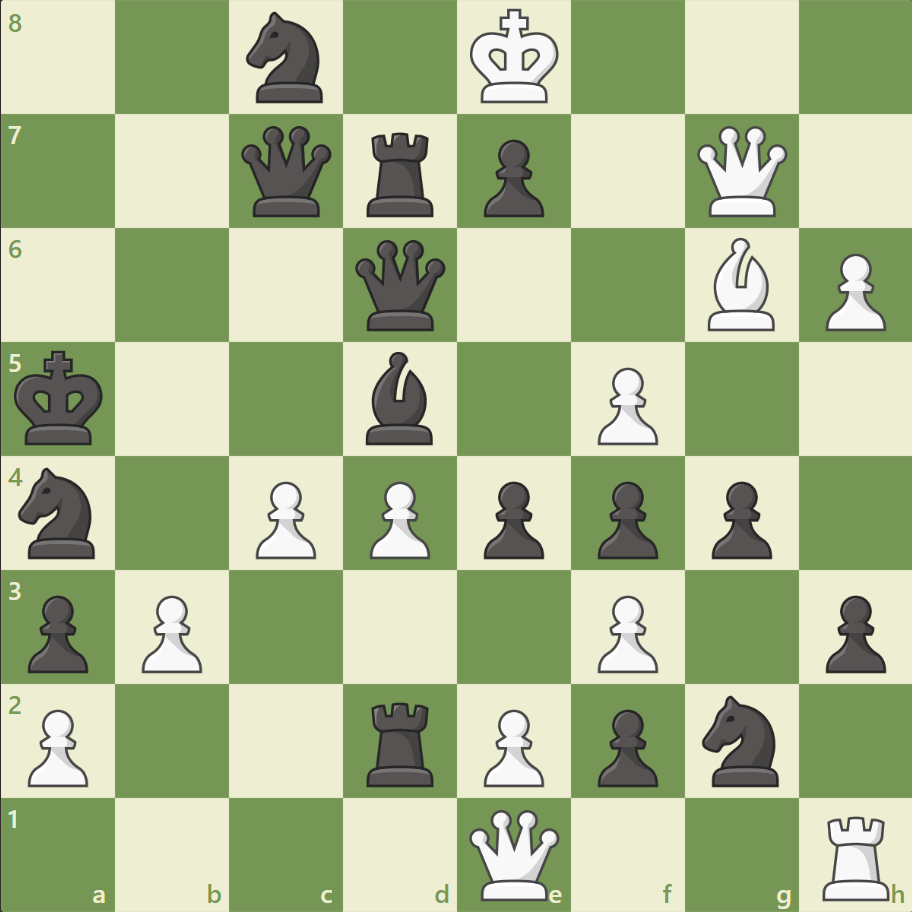B: (698, 233, 782, 336)
K: (465, 4, 565, 112)
P: (247, 473, 322, 564), (133, 586, 208, 677), (20, 700, 95, 791), (474, 700, 549, 791), (815, 246, 889, 337), (588, 359, 662, 450), (361, 473, 435, 564), (588, 586, 662, 677)
Q: (691, 122, 790, 222), (464, 804, 563, 903)
R: (814, 806, 897, 904)
b: (358, 347, 442, 449)
k: (11, 344, 111, 452)
n: (238, 7, 335, 110), (11, 461, 108, 564), (692, 688, 789, 791)
p: (474, 132, 549, 223), (474, 473, 549, 564), (701, 473, 776, 564), (20, 586, 95, 677), (588, 473, 662, 564), (815, 586, 889, 677), (588, 700, 662, 791)
q: (237, 122, 336, 222), (351, 236, 450, 335)
r: (360, 125, 442, 222), (360, 693, 442, 790)
